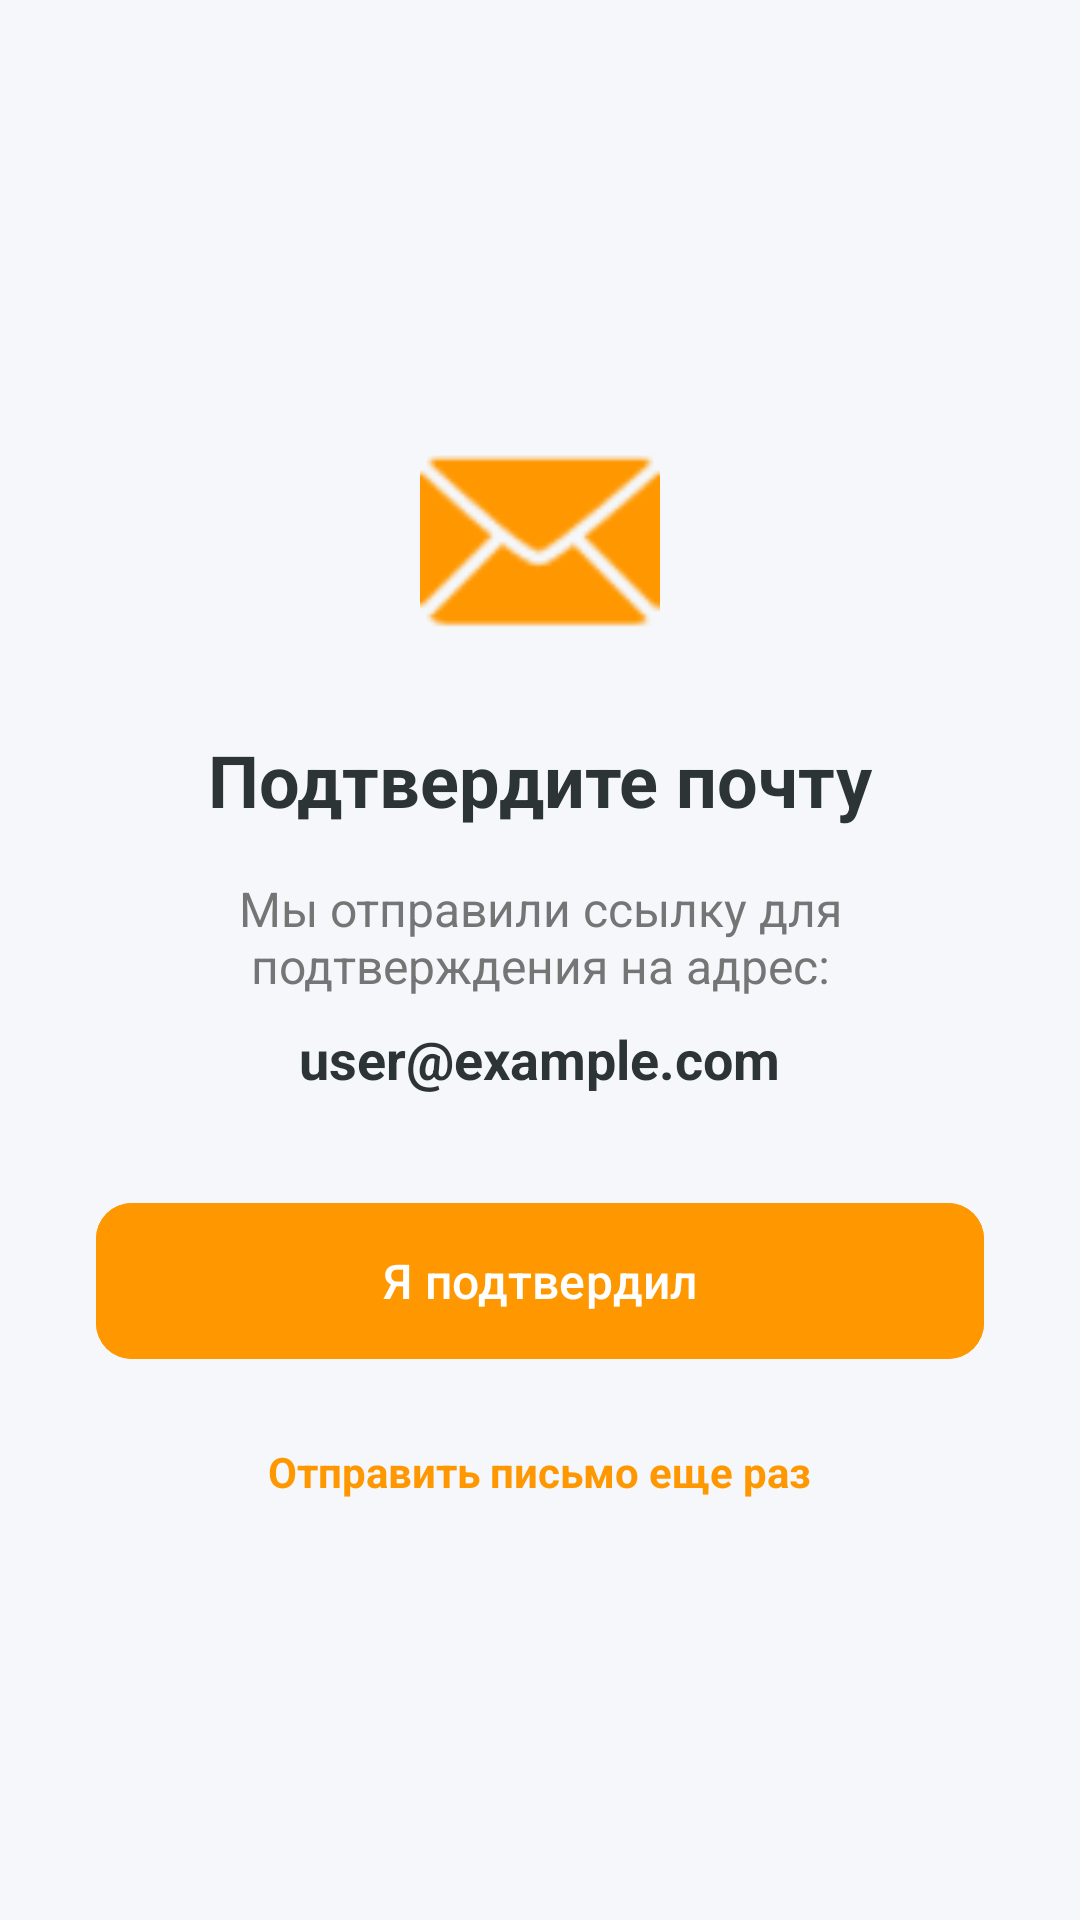

Locate icon controls on the screen. Image size 1080 x 1920, boxes as (x1, y1, x2, y2).
email: (420, 456, 660, 627)
